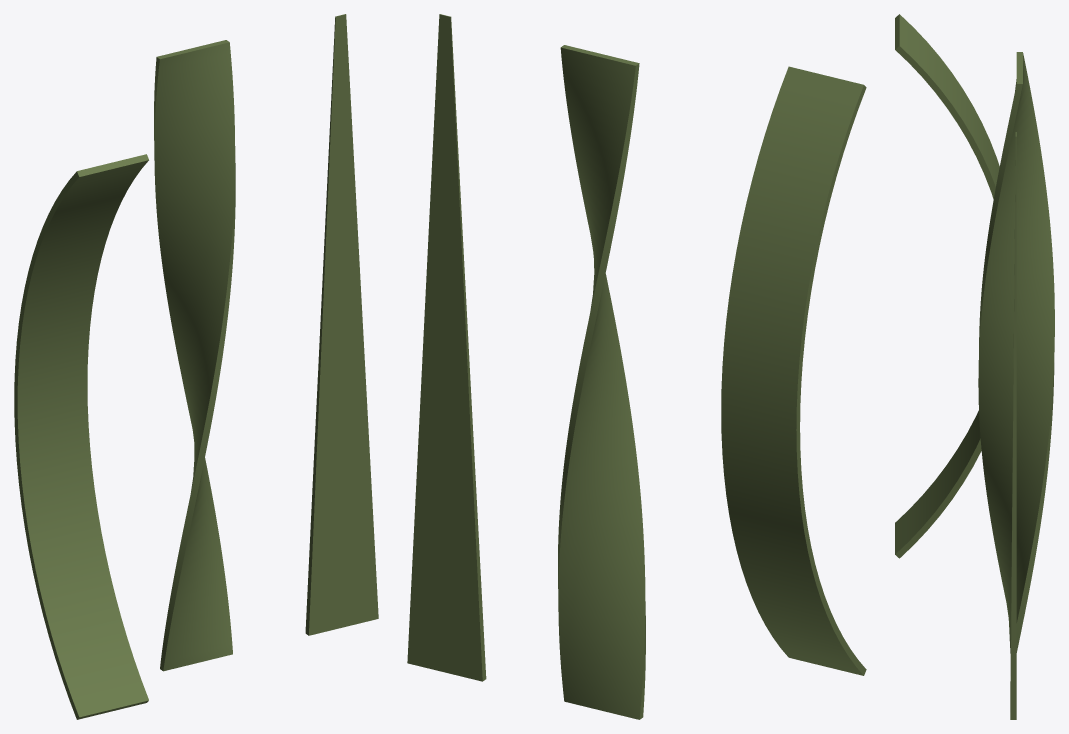
The model's file is edits_bend.glb.
3 views of the same model, side by side, from view 1: azimuth 30°, elevation 25°; view 2: azimuth 150°, elevation 25°; view 3: azimuth 270°, elevation 25° (orthographic). The views are drawn at different scales.
Visible parts, largest first — view 1: bent; view 2: bent; view 3: bent.
Boxes of the visible parts, <box> form: bent: <box>14,14,378,719</box>; bent: <box>407,14,866,719</box>; bent: <box>895,14,1054,719</box>.
Size of the model in its own units: 0.124 by 0.2 by 0.0509.
